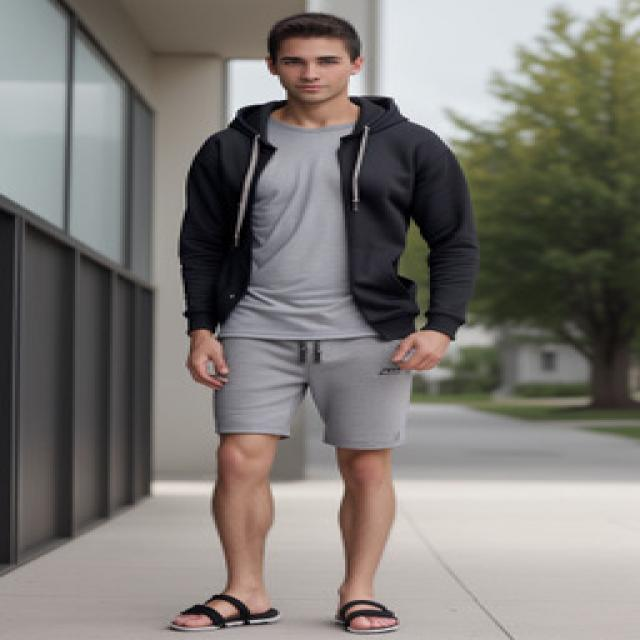Ai human 2: (164, 6, 494, 640)
